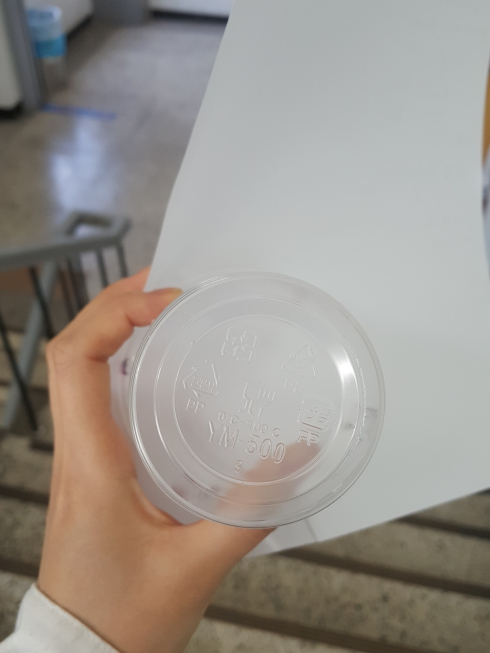recycle: (184, 355, 222, 417)
